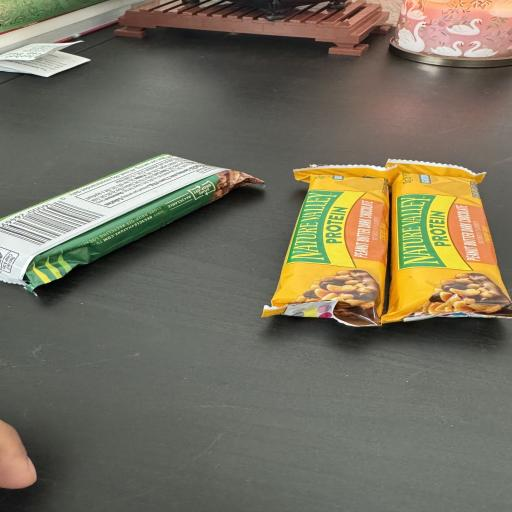granola: (0, 155, 262, 290), (263, 166, 397, 326), (383, 160, 511, 322)
